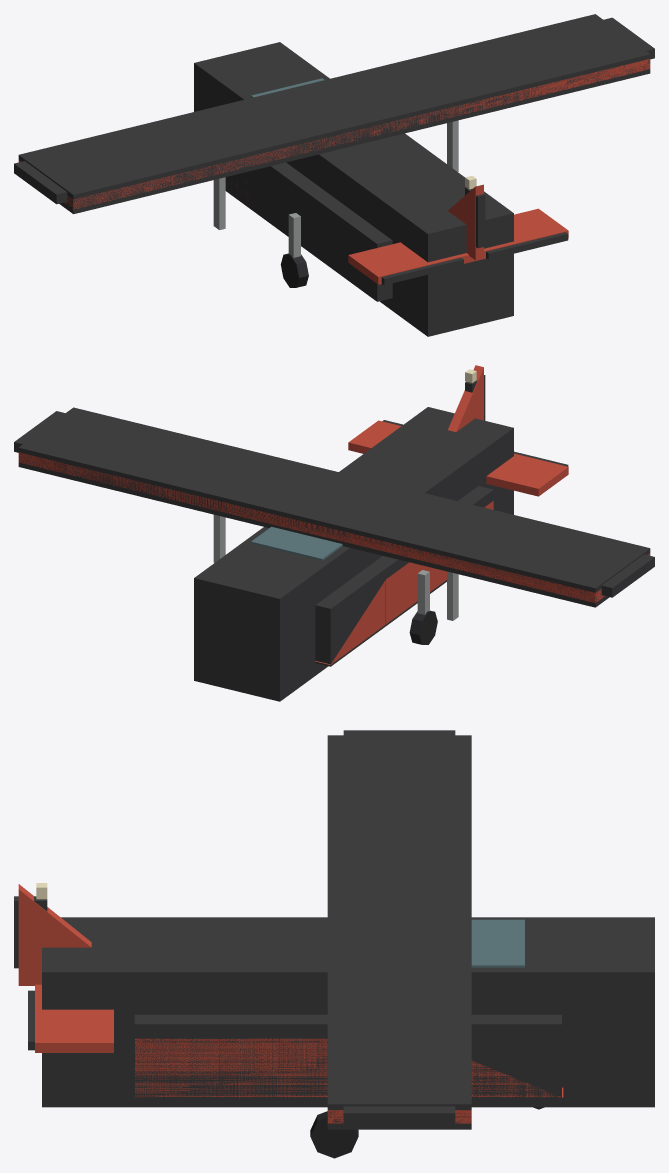
Rendered from aircraft.glb.
3 views of the same model, one above another, from view 1: azimuth 30°, elevation 25°; view 2: azimuth 150°, elevation 25°; view 3: azimuth 270°, elevation 25° (orthographic). The views are drawn at different scales.
Visible parts, largest first — view 1: Plane_Col, Plane, Boat_Col, Boat; view 2: Plane_Col, Plane, Boat_Col, Boat; view 3: Plane_Col, Boat_Col, Plane, Boat.
Part boxes in pixels (bbox=[...]): Plane_Col: bbox=[18, 14, 650, 336]; Plane: bbox=[14, 17, 654, 287]; Boat_Col: bbox=[225, 162, 392, 301]; Boat: bbox=[231, 170, 374, 250]; Plane_Col: bbox=[18, 407, 650, 701]; Plane: bbox=[14, 365, 654, 644]; Boat_Col: bbox=[315, 486, 493, 666]; Boat: bbox=[315, 501, 493, 664]; Plane_Col: bbox=[42, 735, 654, 1129]; Boat_Col: bbox=[134, 1014, 561, 1099]; Plane: bbox=[14, 730, 544, 1158]; Boat: bbox=[135, 1029, 563, 1097].
Size of what is drawn, in the model's own units: 9.75 by 2.72 by 6.9.
